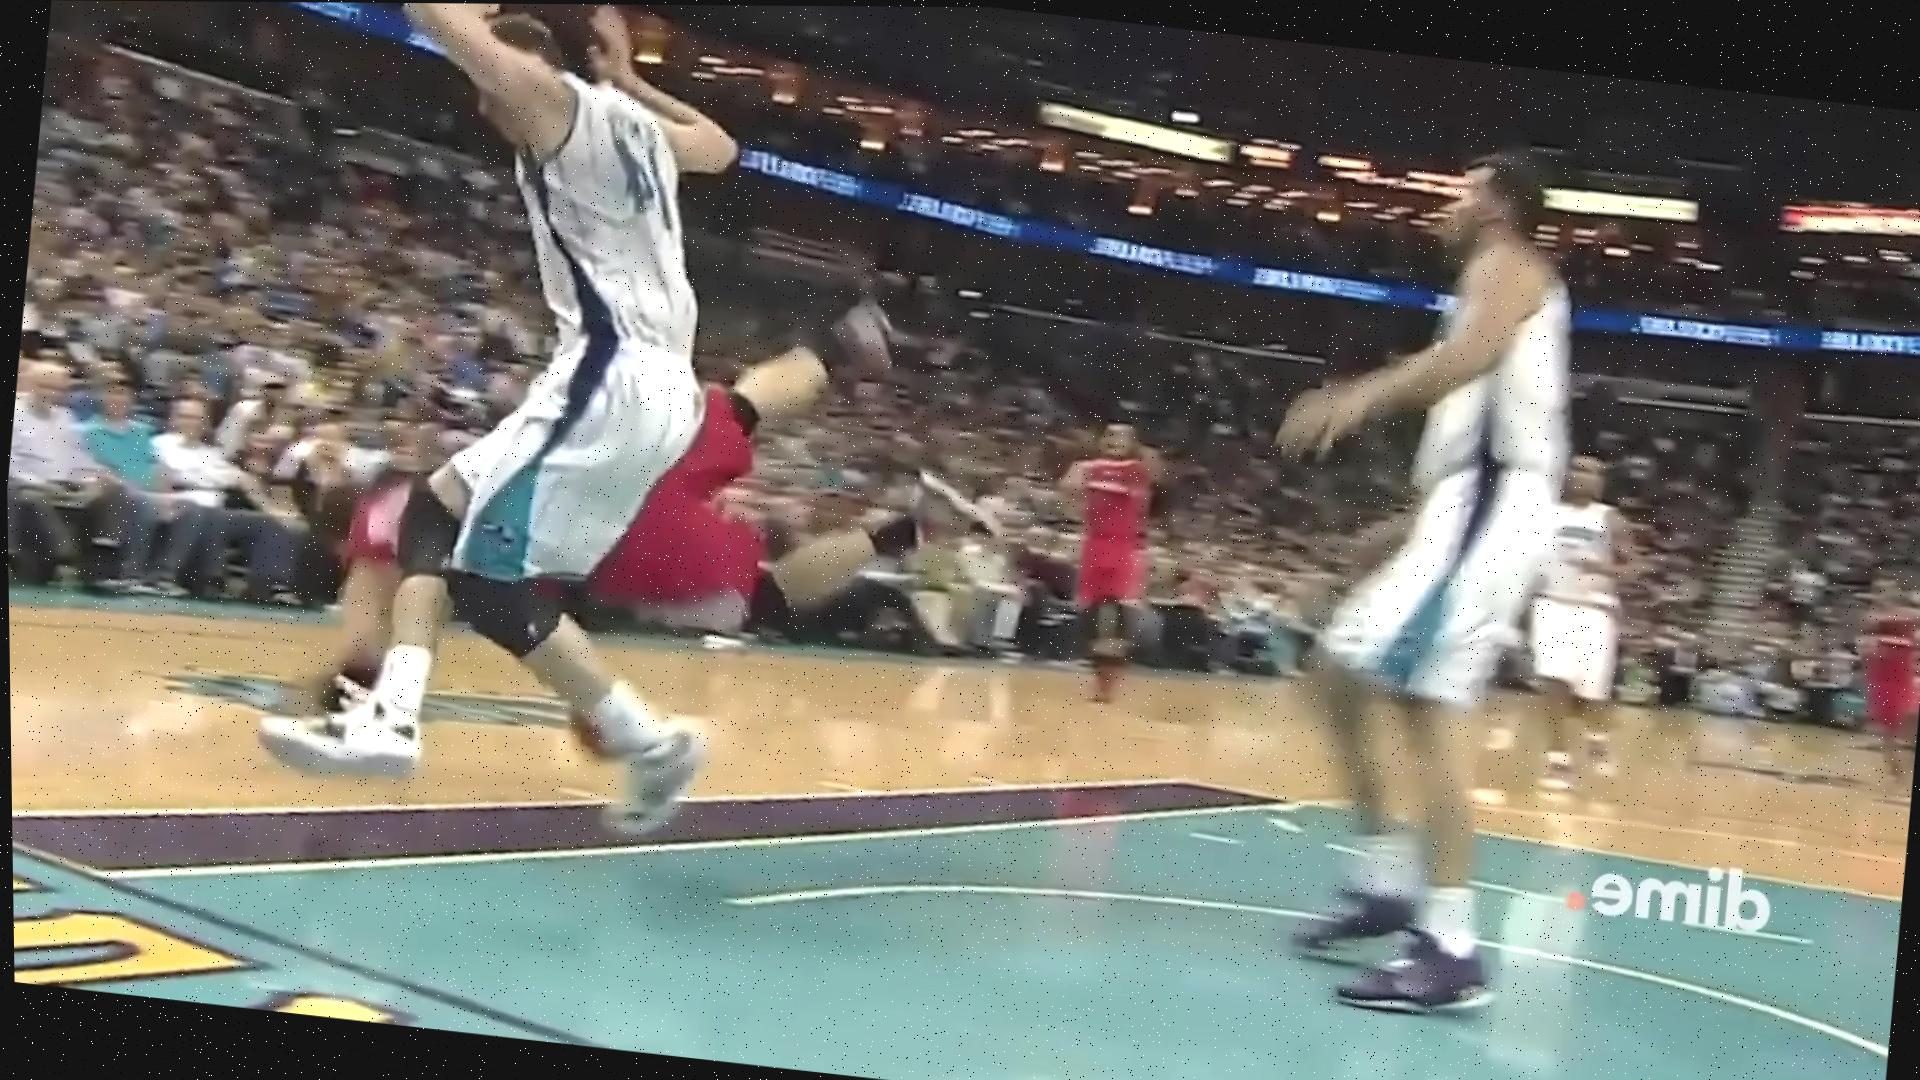foul: (218, 13, 926, 841)
